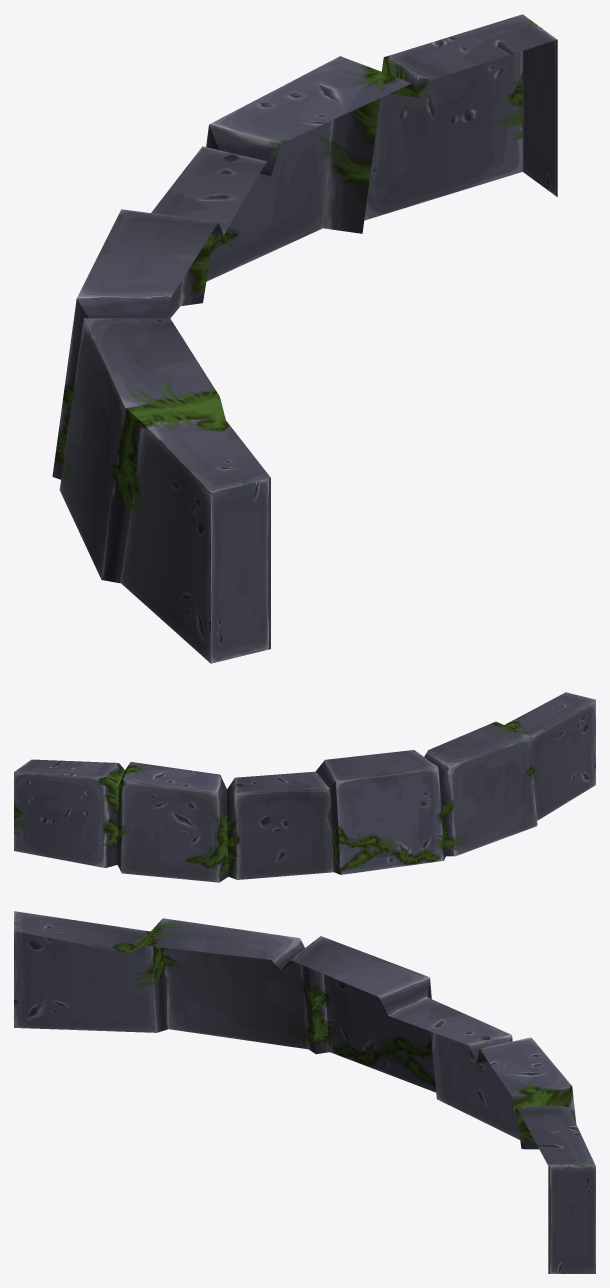
The model's file is MOD_WallTrim_01_M_concave_2_2.fbx.
The picture shows the model from 3 angles, top to bottom: view 1: azimuth 30°, elevation 25°; view 2: azimuth 150°, elevation 25°; view 3: azimuth 270°, elevation 25°; orthographic projection. The views are drawn at different scales.
Visible parts, largest first — view 1: MOD_WallTrim_01_M_concave_2_2; view 2: MOD_WallTrim_01_M_concave_2_2; view 3: MOD_WallTrim_01_M_concave_2_2.
Boxes of the visible parts, x1=… form: MOD_WallTrim_01_M_concave_2_2: x1=52, y1=14, x2=557, y2=663; MOD_WallTrim_01_M_concave_2_2: x1=14, y1=692, x2=595, y2=882; MOD_WallTrim_01_M_concave_2_2: x1=14, y1=911, x2=595, y2=1273.
Size of what is drawn, in the model's own units: 245 by 56.8 by 245.
